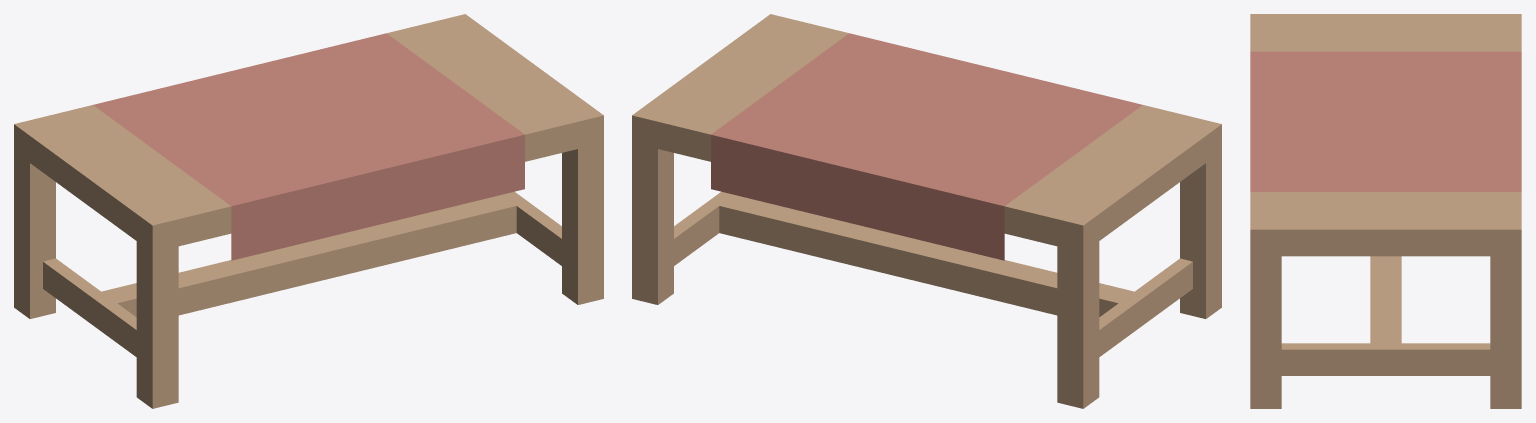
3 renders of one model, left to right at view 1: azimuth 30°, elevation 25°; view 2: azimuth 150°, elevation 25°; view 3: azimuth 270°, elevation 25°, orthographic. The views are drawn at different scales.
Visible parts, largest first — view 1: model; view 2: model; view 3: model.
Boxes of the visible parts, x1=… form: model: x1=14, y1=14, x2=603, y2=408; model: x1=632, y1=14, x2=1221, y2=408; model: x1=1250, y1=14, x2=1521, y2=408.
Bounding box in the file's own units: 1.68 × 0.6535 × 0.8947.
